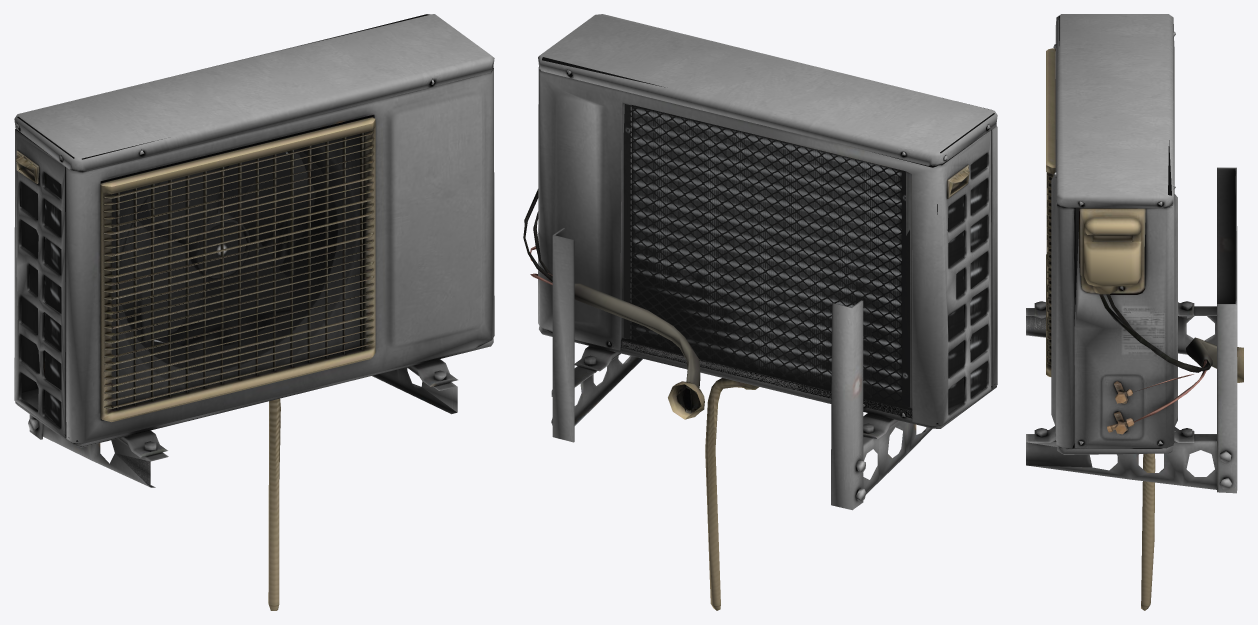
Rendered from AirconUnit.obj.
The picture shows the model from 3 angles, left to right: view 1: azimuth 30°, elevation 25°; view 2: azimuth 150°, elevation 25°; view 3: azimuth 270°, elevation 25°; orthographic projection. The views are drawn at different scales.
Parts seen in each view (by area): view 1: exterior_aircon_unit_1b6c8a, exterior_aircon_unit_11a5de; view 2: exterior_aircon_unit_1b6c8a, exterior_aircon_unit_11a5de; view 3: exterior_aircon_unit_1b6c8a.
Part boxes in pixels (left/top/right/bottom): exterior_aircon_unit_1b6c8a: left=14, top=14, right=494, bottom=610; exterior_aircon_unit_11a5de: left=44, top=151, right=288, bottom=426; exterior_aircon_unit_1b6c8a: left=523, top=14, right=997, bottom=610; exterior_aircon_unit_11a5de: left=622, top=104, right=987, bottom=410; exterior_aircon_unit_1b6c8a: left=1026, top=14, right=1243, bottom=610.
Size of the model in its own units: 0.7995 by 0.9275 by 0.3742.
Materials: 2 (2 with a texture image).
